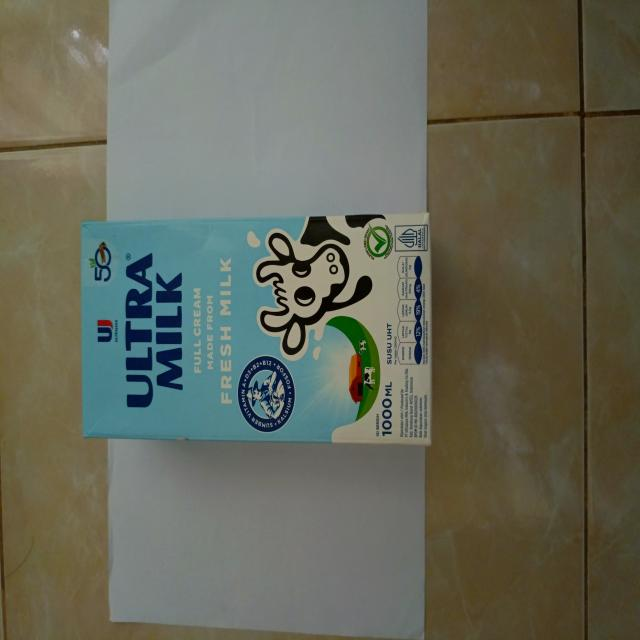indomie-mie-kocok-bandung: (79, 209, 432, 448)
